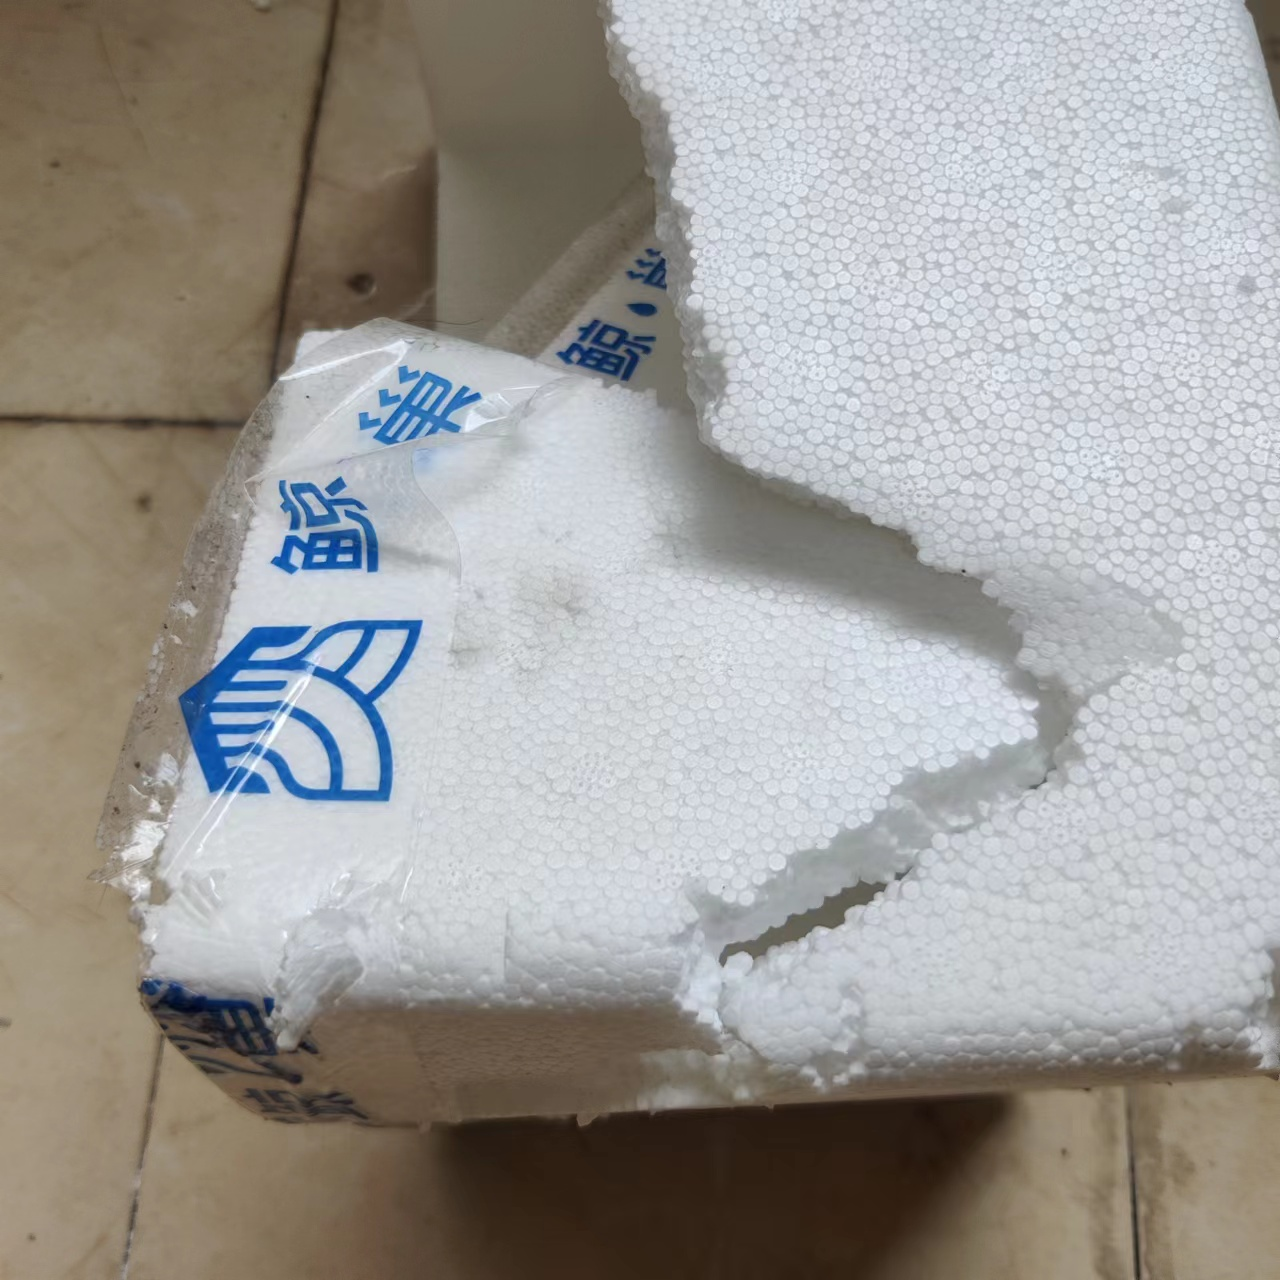5/可回收垃圾/泡沫: (93, 1, 1280, 1130)
